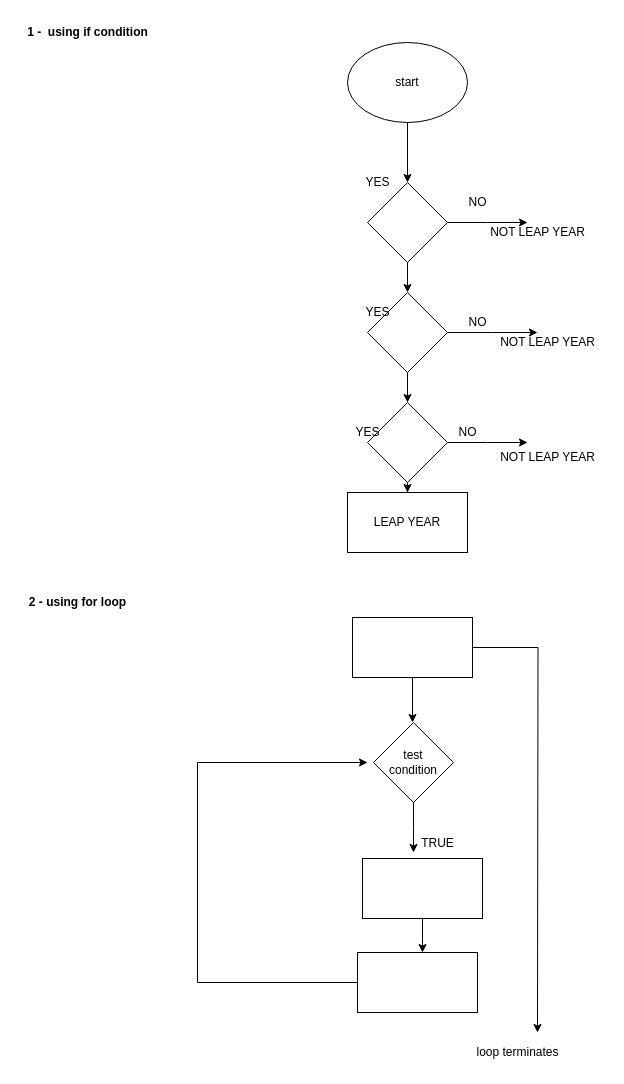
This 624x1084 diagram has some shape labels left out. The centre of each missing label's shape, as x and y in pixels:
"for body loop" belongs at (x=422, y=888).
"initaialize expression" belongs at (x=412, y=647).
"update expression" belongs at (x=417, y=982).
